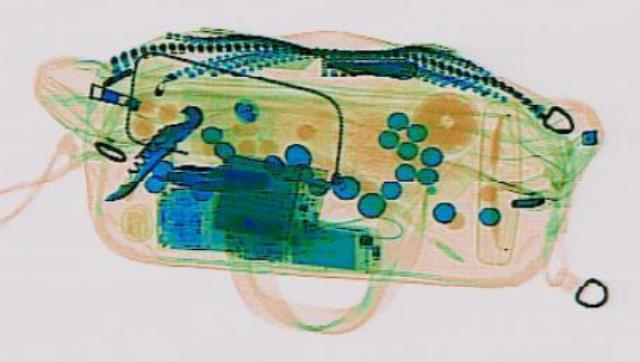Knife: (90, 99, 210, 203)
